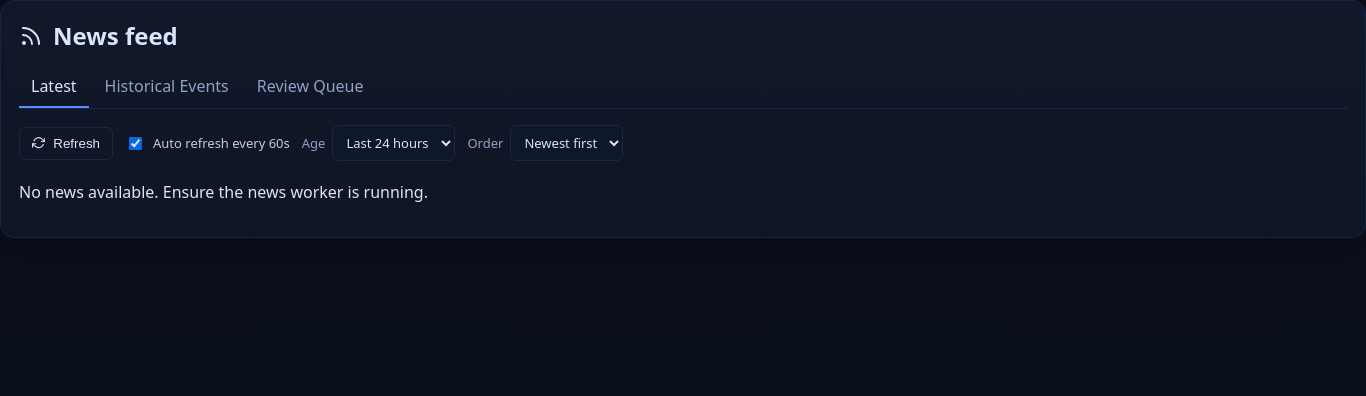
Test: NewsFeed › loads related event coverage on demand
Expected: the text "No news available. Ensure the news worker is running." is shown, [19,181,428,203]
What coordinates should you click on to do the following:
click the tab "Historical Events"
I would click on:
 (167, 87)
Its box is [93,66,241,108].
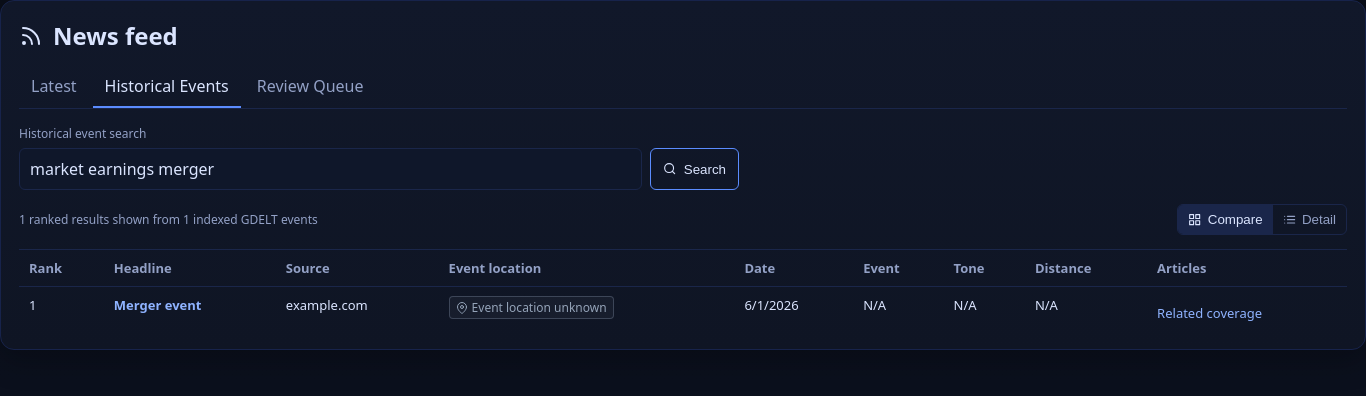
Expected: the link "Merger event" is shown, [114,296,201,314]
What coordinates should you click on to do the following:
click the button "Related coverage"
I would click on:
 (1210, 313)
Its box is [1157,304,1262,322].
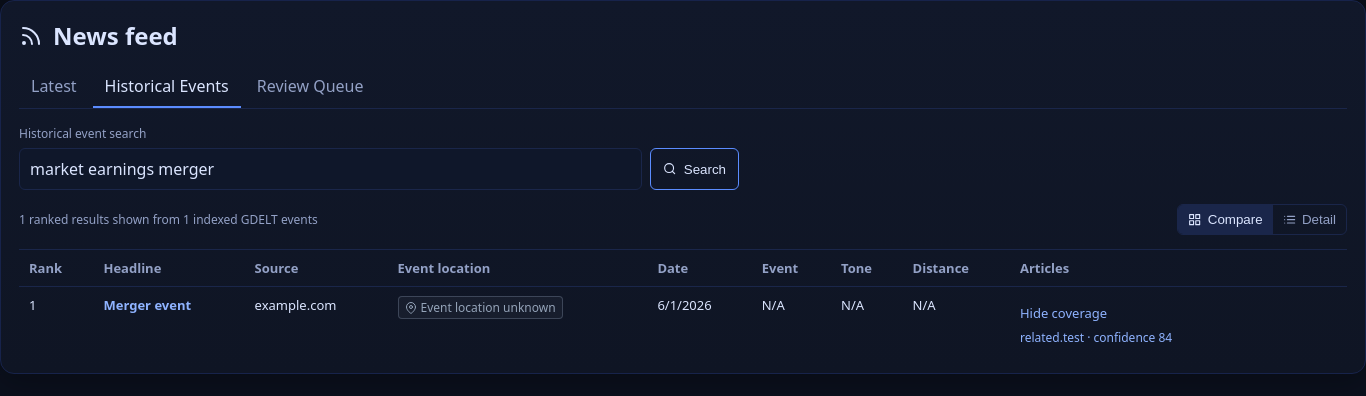
Expected: the link "related.test · confidence 84" is shown, [1020,329,1172,346]
